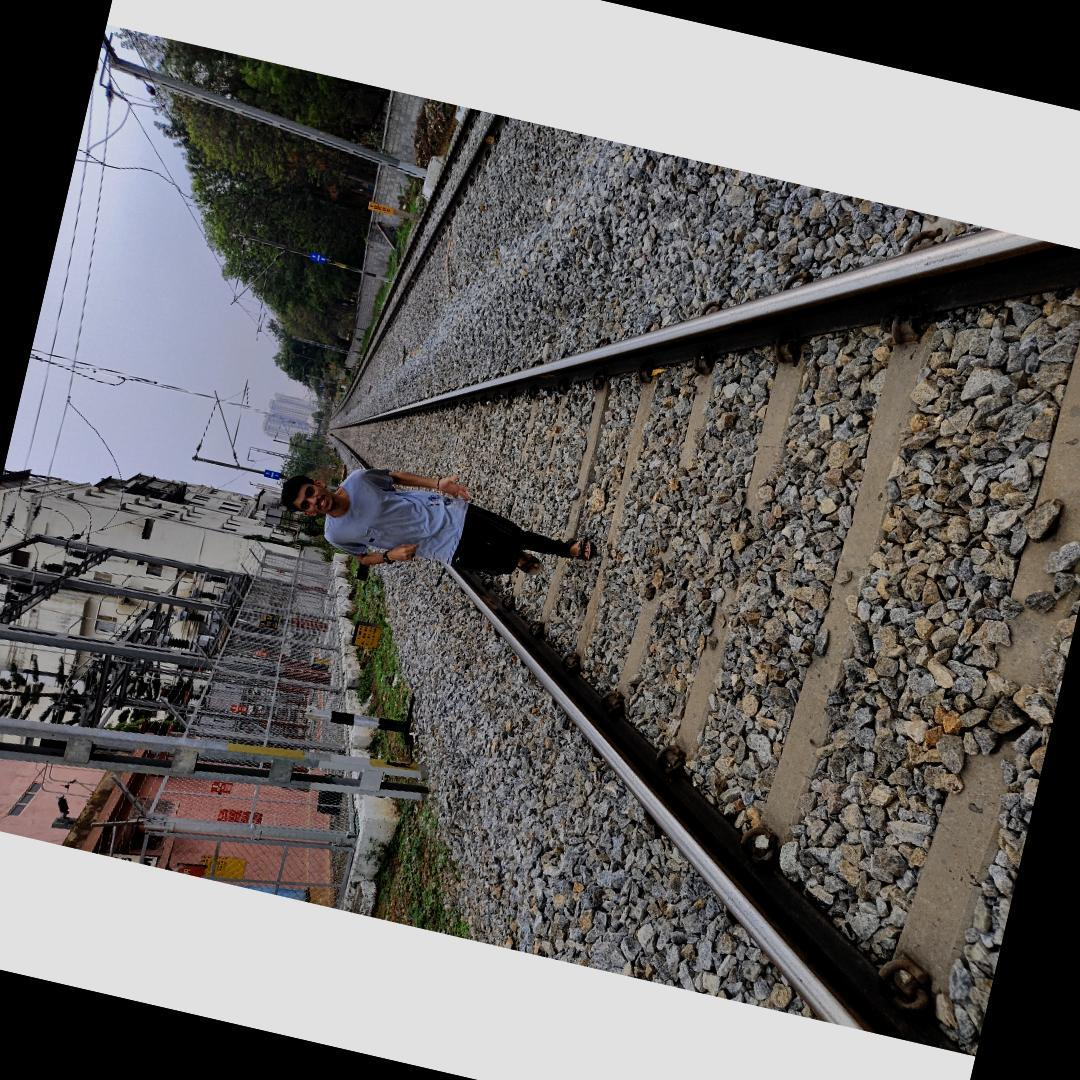standing: (266, 439, 602, 616)
track: (327, 231, 1080, 1056)
